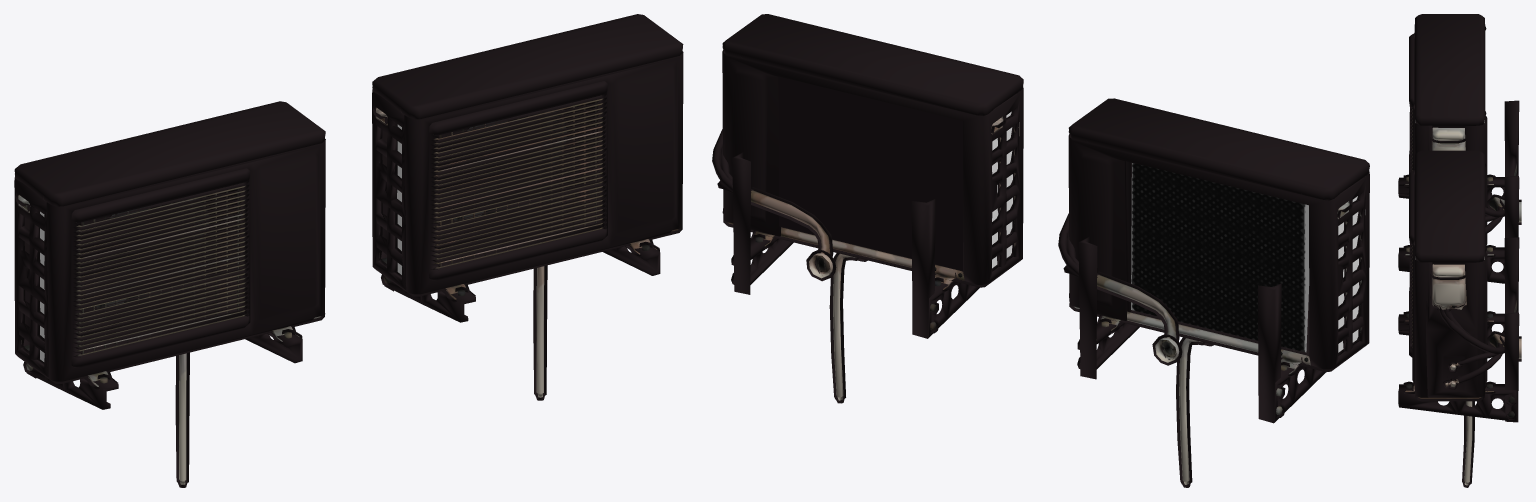
Rendered from SM_Int_Aircon.fbx.
3 renders of one model, left to right at view 1: azimuth 30°, elevation 25°; view 2: azimuth 150°, elevation 25°; view 3: azimuth 270°, elevation 25°, orthographic. The views are drawn at different scales.
Parts seen in each view (by area): view 1: SM_Int_Aircon; view 2: SM_Int_Aircon; view 3: SM_Int_Aircon.
Part boxes in pixels (x1,y1,x2,y2): SM_Int_Aircon: [14, 14, 683, 487]; SM_Int_Aircon: [712, 14, 1369, 487]; SM_Int_Aircon: [1398, 14, 1521, 487].
Size of what is drawn, in the model's own units: 1.81 by 0.9428 by 0.3817.
